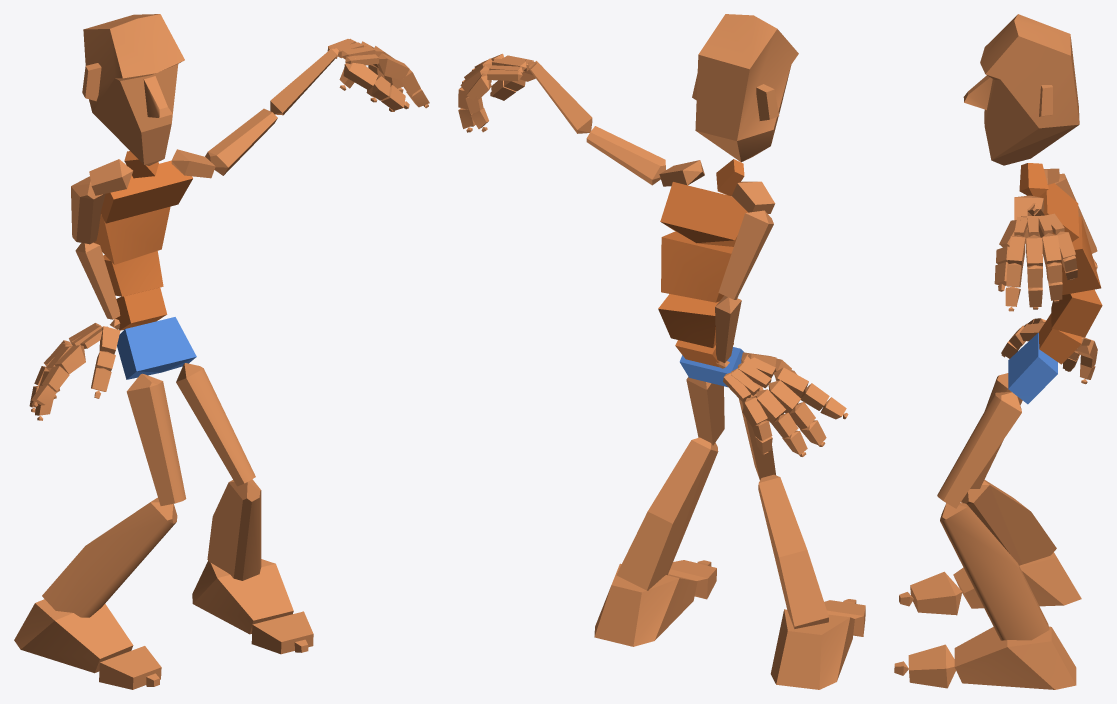
Rendered from personaje329.obj.
3 views of the same model, side by side, from view 1: azimuth 30°, elevation 25°; view 2: azimuth 150°, elevation 25°; view 3: azimuth 270°, elevation 25° (orthographic). The views are drawn at different scales.
Parts seen in each view (by area): view 1: BOPED_Head, BOPED_R_leg, BOPED_R_foot, BOPED_R_foot01, BOPED_L_leg, BOPED_R_legup, BOPED_L_legup, Bone01, Bone05, Bone04, BOPED_L_arm_upper, Bone03 (+8 smaller); view 2: BOPED_Head, BOPED_L_leg, BOPED_R_leg, BOPED_R_foot01, BOPED_R_foot, Bone05, Bone04, Bone03, BOPED_R_arm_upper, BOPED_L_arm_upper, BOPED_L_legup, BOPED_L_arm_fore (+9 smaller); view 3: BOPED_Head, BOPED_L_leg, BOPED_R_foot01, BOPED_R_leg, BOPED_L_legup, BOPED_R_foot, Bone01, Bone03, BOPED_R_foot_toe01, BOPED_R_foot_toe04, Bone04, Bone05 (+11 smaller).
Boxes of the visible parts, <box> form: BOPED_Head: <box>82,14,184,165</box>; BOPED_R_leg: <box>42,497,177,617</box>; BOPED_R_foot: <box>14,599,133,673</box>; BOPED_R_foot01: <box>192,559,293,634</box>; BOPED_L_leg: <box>207,479,261,580</box>; BOPED_R_legup: <box>126,373,186,505</box>; BOPED_L_legup: <box>176,363,255,486</box>; Bone01: <box>117,317,196,379</box>; Bone05: <box>100,160,192,223</box>; Bone04: <box>94,206,170,264</box>; BOPED_L_arm_upper: <box>205,108,277,175</box>; Bone03: <box>103,251,163,296</box>; BOPED_Head: <box>692,14,798,162</box>; BOPED_L_leg: <box>616,437,718,590</box>; BOPED_R_leg: <box>758,474,828,628</box>; BOPED_R_foot01: <box>594,563,697,646</box>; BOPED_R_foot: <box>770,609,854,689</box>; Bone05: <box>660,182,747,246</box>; Bone04: <box>661,231,733,302</box>; Bone03: <box>658,294,719,347</box>; BOPED_R_arm_upper: <box>718,210,773,299</box>; BOPED_L_arm_upper: <box>586,126,665,185</box>; BOPED_L_legup: <box>686,377,724,445</box>; BOPED_L_arm_fore: <box>528,61,592,133</box>; BOPED_Head: <box>963,14,1079,165</box>; BOPED_L_leg: <box>940,503,1049,640</box>; BOPED_R_foot01: <box>954,626,1076,689</box>; BOPED_R_leg: <box>961,479,1056,565</box>; BOPED_L_legup: <box>937,391,1021,508</box>; BOPED_R_foot: <box>953,552,1081,608</box>; Bone01: <box>1008,333,1057,404</box>; Bone03: <box>1051,289,1102,337</box>; BOPED_R_foot_toe01: <box>910,571,962,615</box>; BOPED_R_foot_toe04: <box>908,644,955,688</box>; Bone04: <box>1061,216,1101,294</box>; Bone05: <box>1026,183,1079,241</box>.
Bounding box in the file's own units: 119 × 181 × 56.5.
